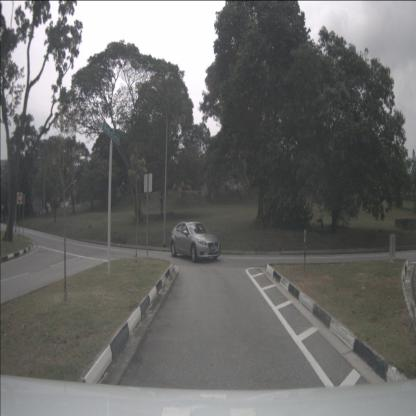vehicle-car: (170, 221, 221, 262)
